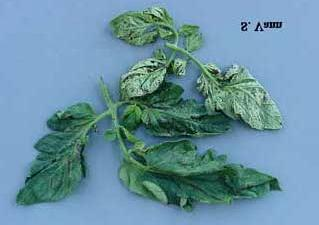Tomato leaf bacterial spot: (114, 137, 286, 211), (17, 107, 99, 203), (200, 65, 291, 134), (117, 51, 171, 99)
